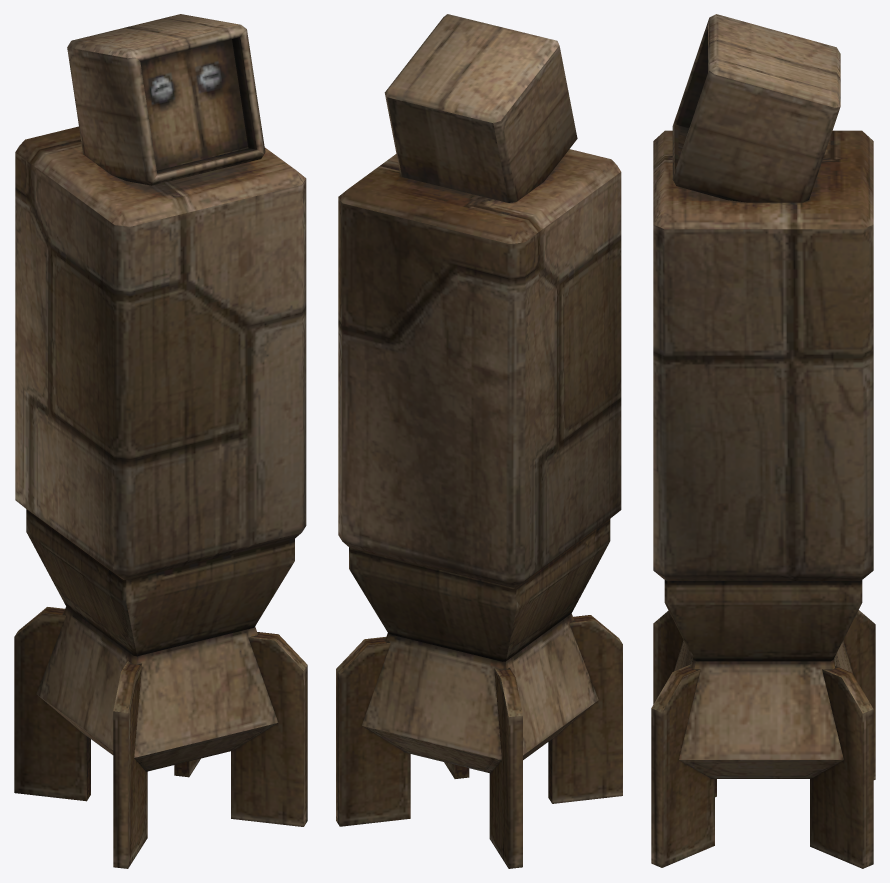
The model's file is toy_spaceship.dae.
The picture shows the model from 3 angles, left to right: view 1: azimuth 30°, elevation 25°; view 2: azimuth 150°, elevation 25°; view 3: azimuth 270°, elevation 25°; orthographic projection. The views are drawn at different scales.
Visible parts, largest first — view 1: toy_spaceship; view 2: toy_spaceship; view 3: toy_spaceship.
Boxes of the visible parts, x1,y1,x2,y2 form: toy_spaceship: [14, 14, 307, 868]; toy_spaceship: [336, 14, 622, 868]; toy_spaceship: [651, 14, 875, 868].
Size of the model in its own units: 0.079 by 0.304 by 0.079.
